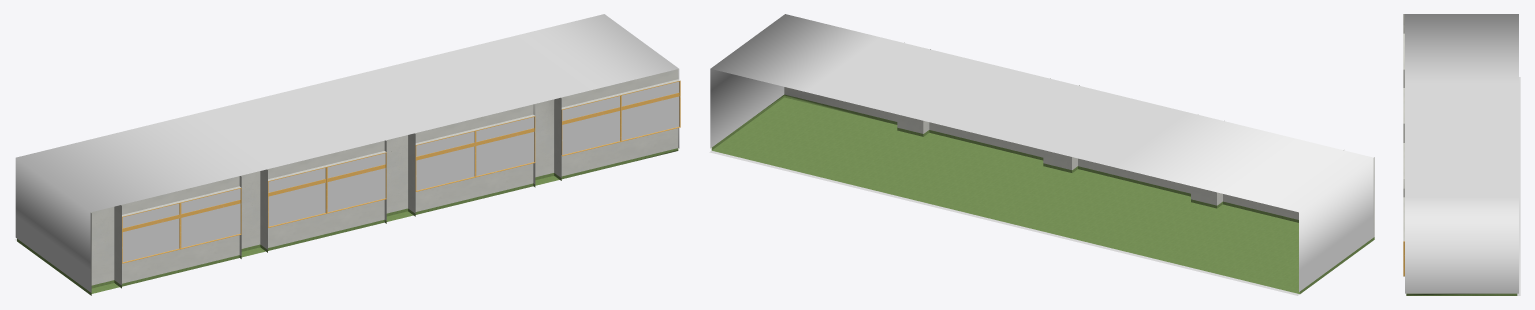
The model's file is Corridor.fbx.
3 views of the same model, side by side, from view 1: azimuth 30°, elevation 25°; view 2: azimuth 150°, elevation 25°; view 3: azimuth 270°, elevation 25° (orthographic). The views are drawn at different scales.
Visible parts, largest first — view 1: Corridor; view 2: Corridor; view 3: Corridor.
Boxes of the visible parts, x1=… form: Corridor: x1=15, y1=14, x2=680, y2=295; Corridor: x1=709, y1=14, x2=1374, y2=295; Corridor: x1=1403, y1=14, x2=1520, y2=295.
Bounding box in the file's own units: 3372 × 453 × 765.
